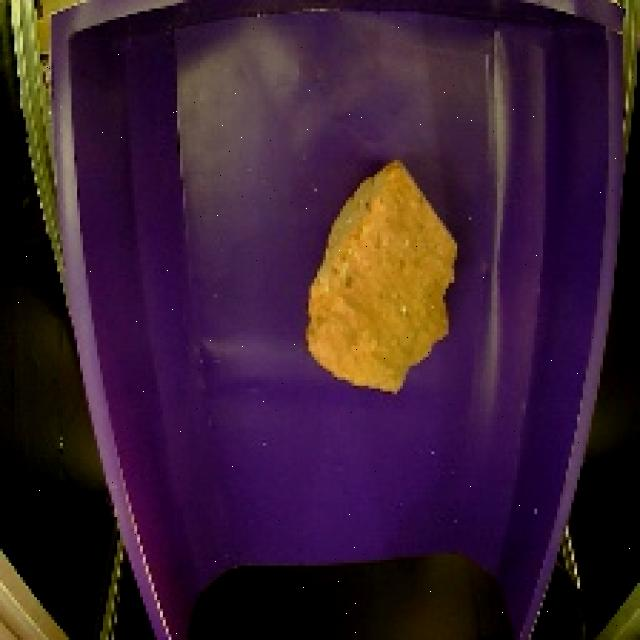brick: (293, 152, 468, 403)
